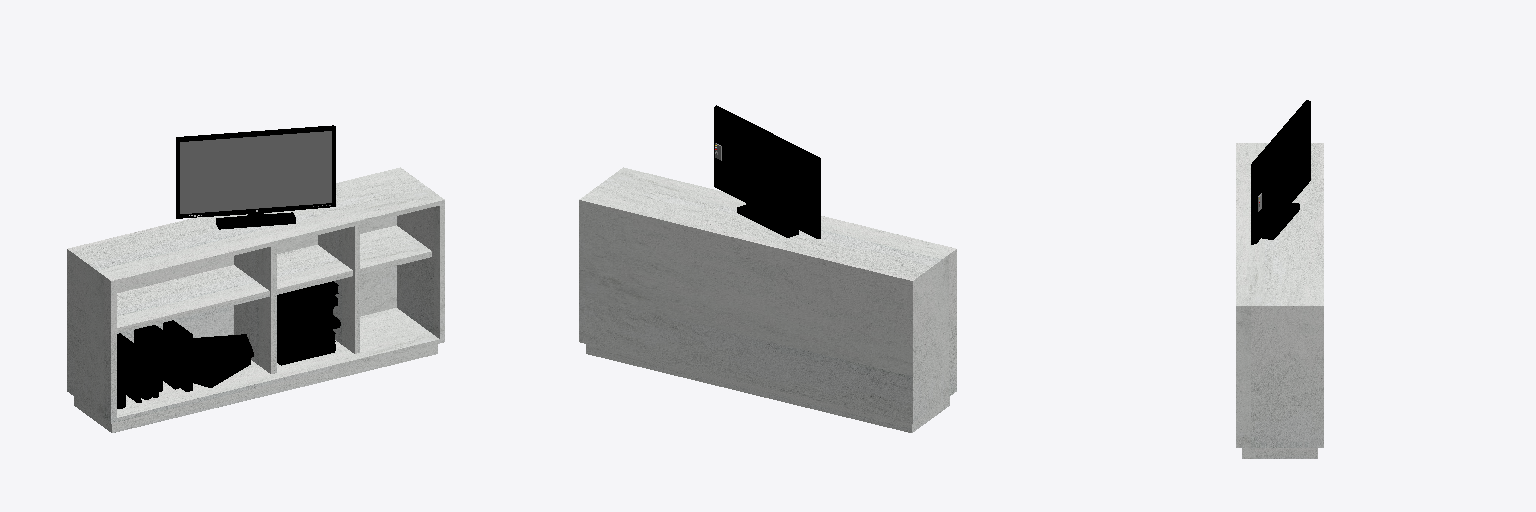
The picture shows the model from 3 angles: view 1: azimuth 30°, elevation 25°; view 2: azimuth 150°, elevation 25°; view 3: azimuth 270°, elevation 25°; orthographic projection.
Visible parts, largest first — view 1: MesaTV:pCube8, smarttv:smart_tv_Text, Books_LOD0Book174, Books_LOD0:Books_LOD0Book173, Books_LOD0:Books_LOD0Book8, Books_LOD0Book177, Books_LOD0:Books_LOD0Book3, Books_LOD0:Books_LOD0Book171, Books_LOD0Book3, Books_LOD0:Books_LOD0Book176, Books_LOD0:Books_LOD0Book177, Books_LOD0Book171 (+1 smaller); view 2: MesaTV:pCube8, smarttv:smart_tv_Text; view 3: MesaTV:pCube8, smarttv:smart_tv_Text.
Boxes of the visible parts, <box> form: MesaTV:pCube8: <box>67,167,444,432</box>; smarttv:smart_tv_Text: <box>176,125,335,229</box>; Books_LOD0Book174: <box>193,334,253,361</box>; Books_LOD0:Books_LOD0Book173: <box>163,320,192,391</box>; Books_LOD0:Books_LOD0Book8: <box>134,327,158,397</box>; Books_LOD0Book177: <box>277,281,338,306</box>; Books_LOD0:Books_LOD0Book3: <box>277,342,335,365</box>; Books_LOD0:Books_LOD0Book171: <box>152,325,179,389</box>; Books_LOD0Book3: <box>277,307,333,331</box>; Books_LOD0:Books_LOD0Book176: <box>117,333,151,399</box>; Books_LOD0:Books_LOD0Book177: <box>277,315,340,340</box>; Books_LOD0Book171: <box>193,358,247,376</box>; MesaTV:pCube8: <box>579,167,956,432</box>; smarttv:smart_tv_Text: <box>714,105,820,238</box>; MesaTV:pCube8: <box>1236,143,1323,458</box>; smarttv:smart_tv_Text: <box>1251,100,1310,244</box>.
Bounding box in the file's own units: 7.43 × 5.27 × 1.71.
3 materials, 2 textured.